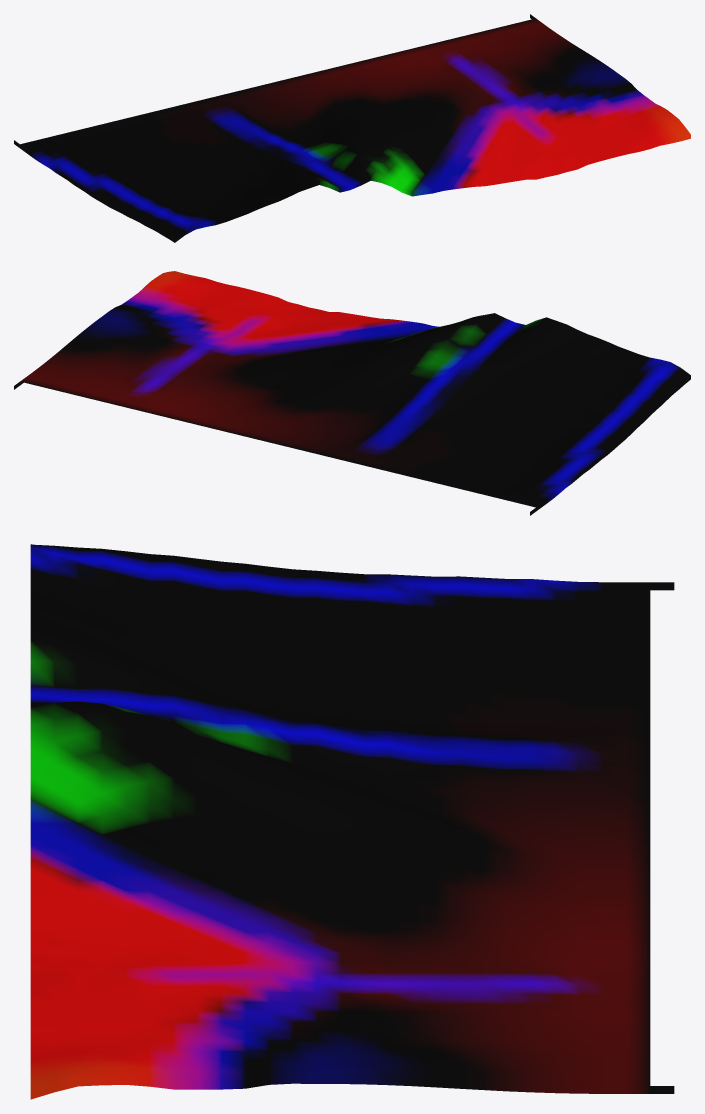
File: coast_11_13.glb
The picture shows the model from 3 angles, top to bottom: view 1: azimuth 30°, elevation 25°; view 2: azimuth 150°, elevation 25°; view 3: azimuth 270°, elevation 25°; orthographic projection. The views are drawn at different scales.
Parts seen in each view (by area): view 1: terrain; view 2: terrain; view 3: terrain.
Part boxes in pixels (x1=…): terrain: x1=14, y1=14, x2=690, y2=242; terrain: x1=14, y1=271, x2=690, y2=515; terrain: x1=30, y1=544, x2=674, y2=1099.
Size of the model in its own units: 200 by 19.29 by 108.
